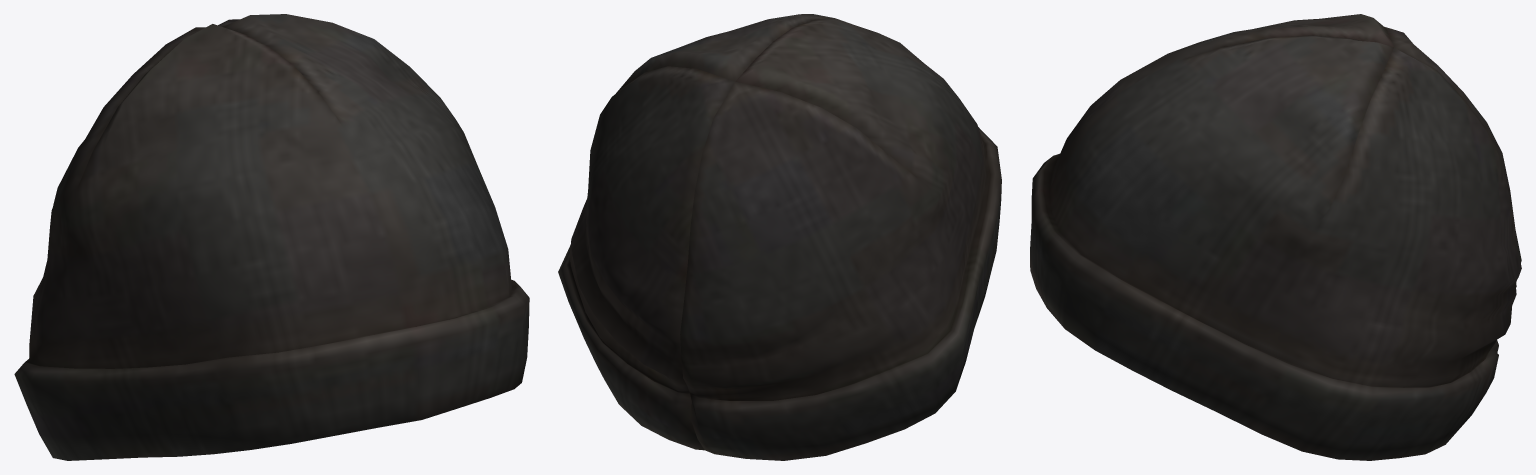
Rendered from hat_winter.gltf.
3 renders of one model, left to right at view 1: azimuth 30°, elevation 25°; view 2: azimuth 150°, elevation 25°; view 3: azimuth 270°, elevation 25°, orthographic. The views are drawn at different scales.
Parts seen in each view (by area): view 1: hat_winter; view 2: hat_winter; view 3: hat_winter.
Boxes of the visible parts, left/top/right/bottom form: hat_winter: left=14, top=14, right=529, bottom=460; hat_winter: left=558, top=14, right=1001, bottom=460; hat_winter: left=1030, top=14, right=1521, bottom=460.
Bounding box in the file's own units: 1 × 0.88 × 1.03.
1 material, 1 textured.
